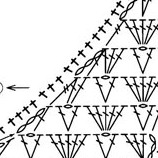chain: (147, 132, 158, 147), (0, 83, 5, 95)
enseble_chain: (84, 0, 135, 49), (0, 92, 50, 138), (52, 67, 97, 118), (66, 44, 109, 90), (23, 99, 59, 139), (97, 43, 134, 81), (97, 100, 134, 138), (117, 72, 147, 107), (58, 103, 89, 136), (83, 100, 111, 136), (117, 127, 149, 158), (63, 130, 96, 158), (98, 75, 126, 108), (44, 129, 73, 158), (128, 102, 151, 133), (89, 74, 111, 105), (126, 48, 153, 73), (25, 132, 50, 158), (100, 132, 125, 158), (0, 133, 20, 158), (5, 79, 31, 96), (97, 49, 114, 75), (136, 76, 152, 102), (135, 19, 151, 45), (136, 0, 150, 19)
fan: (42, 130, 70, 158), (90, 131, 111, 158)
